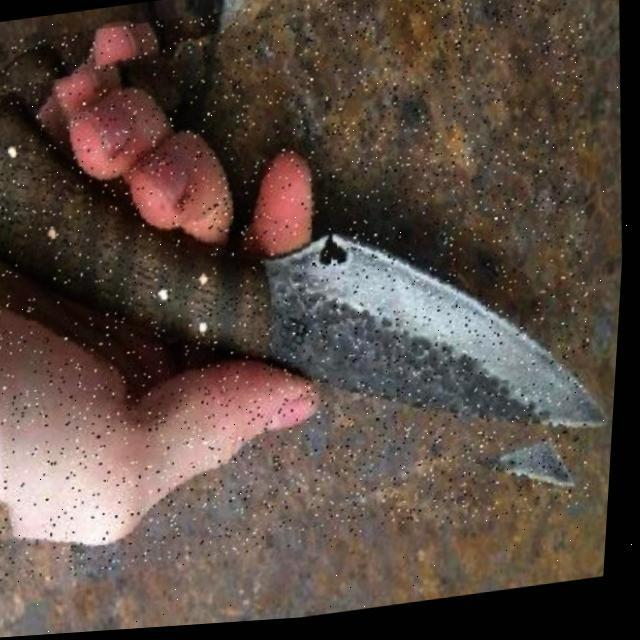knife: (0, 0, 622, 588)
